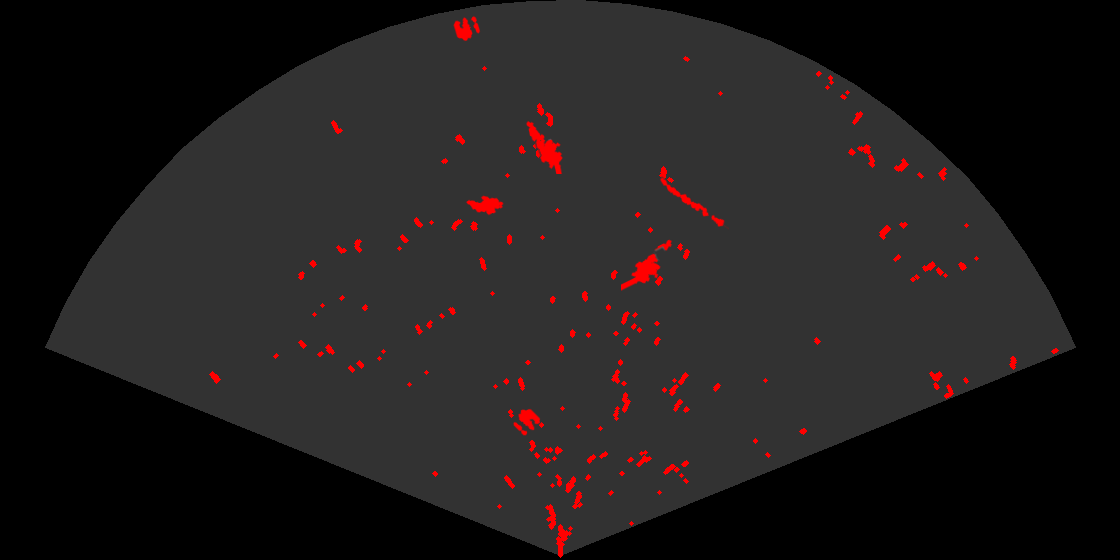AUV: (464, 194, 505, 217)
ball: (512, 407, 542, 437), (452, 14, 482, 43)
chain: (658, 176, 729, 231)
frogman: (621, 238, 674, 292), (525, 119, 564, 174)
